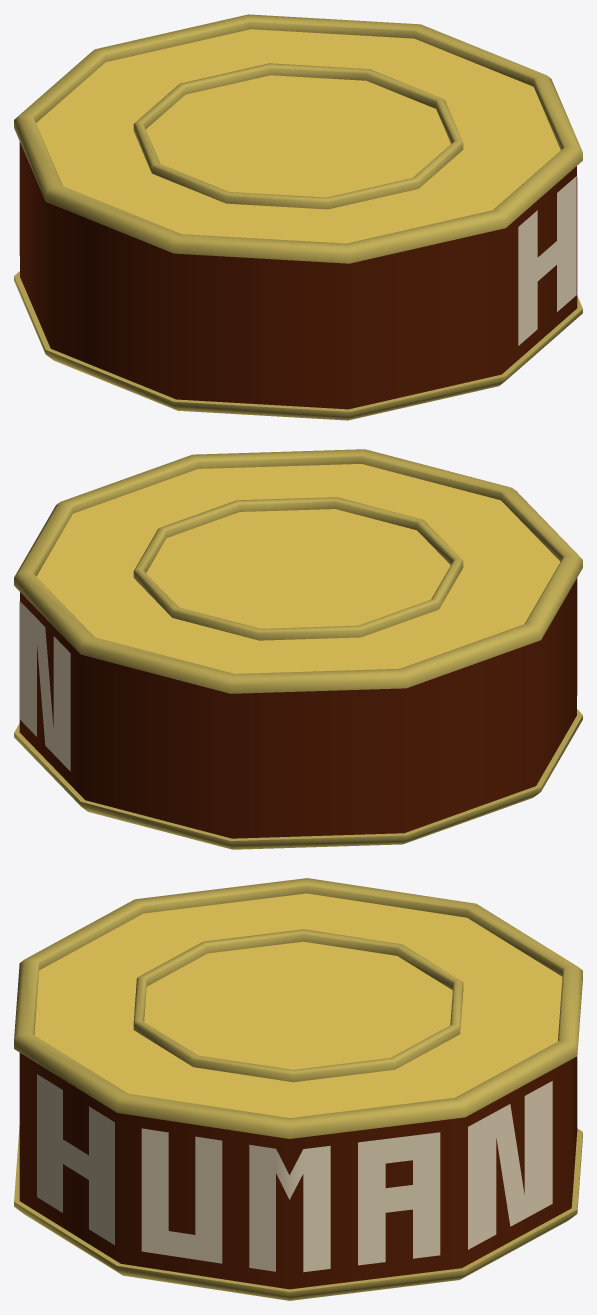
File: Conserv.fbx
3 renders of one model, top to bottom at view 1: azimuth 30°, elevation 25°; view 2: azimuth 150°, elevation 25°; view 3: azimuth 270°, elevation 25°, orthographic. The views are drawn at different scales.
Visible parts, largest first — view 1: Combikorm; view 2: Combikorm; view 3: Combikorm.
Boxes of the visible parts, x1,y1,x2,y2 form: Combikorm: (14, 14, 582, 420); Combikorm: (14, 449, 582, 849); Combikorm: (14, 878, 582, 1300).
Size of the model in its own units: 0.7194 by 0.24 by 0.6909.
